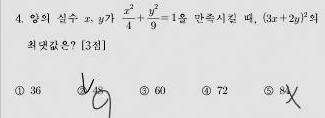choice: (75, 79, 89, 97)
not-choice: (138, 85, 150, 97), (13, 85, 25, 96), (201, 85, 212, 96), (263, 85, 274, 96)
